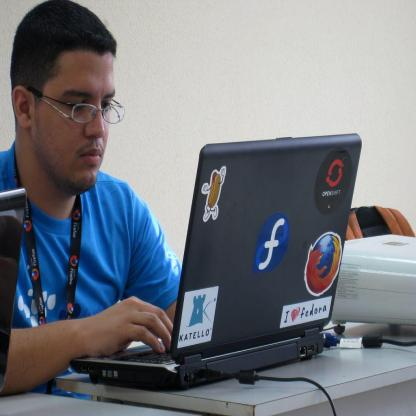board: (72, 143, 371, 411)
